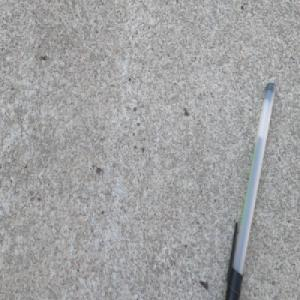Pen: (222, 74, 278, 300)
